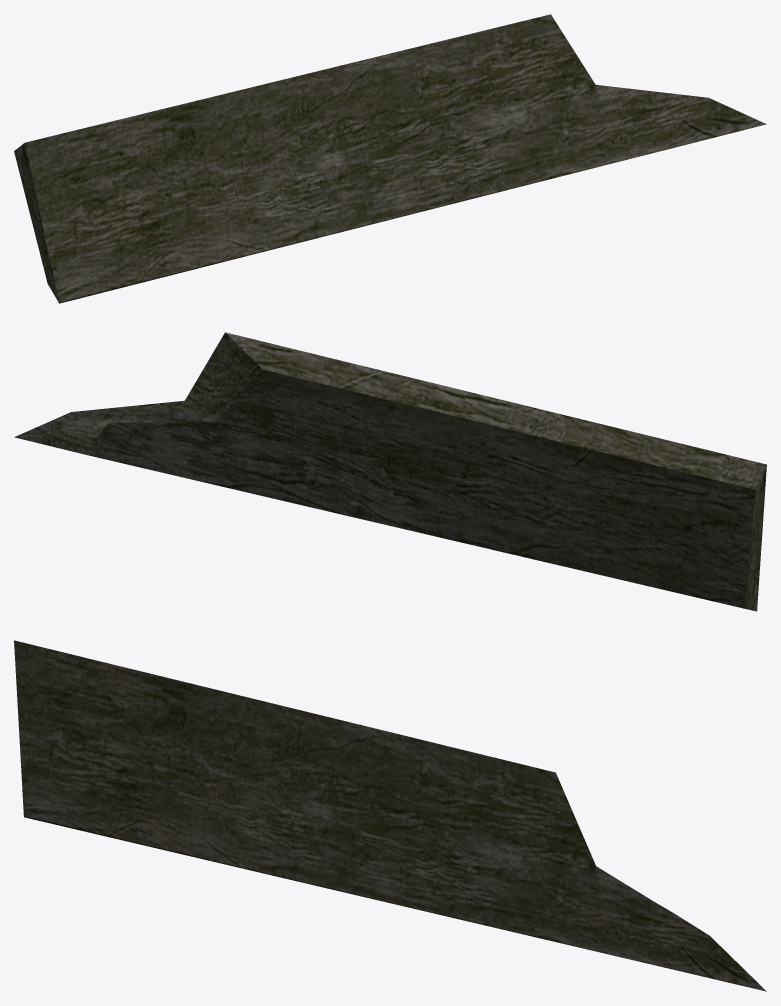
The model's file is TI_Plank_08.fbx.
3 renders of one model, top to bottom at view 1: azimuth 30°, elevation 25°; view 2: azimuth 150°, elevation 25°; view 3: azimuth 330°, elevation 25°, orthographic. The views are drawn at different scales.
Visible parts, largest first — view 1: TI_Plank_08; view 2: TI_Plank_08; view 3: TI_Plank_08.
Part boxes in pixels (box(x1,y1,x2,y2)): TI_Plank_08: box(14, 14, 766, 303); TI_Plank_08: box(14, 332, 766, 611); TI_Plank_08: box(14, 640, 766, 991).
Bounding box in the file's own units: 2.42 × 0.4941 × 0.1326.
